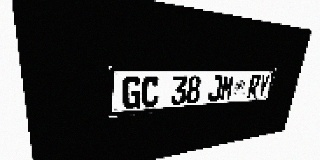3: (170, 76, 188, 105)
8: (185, 75, 202, 104)
C: (141, 76, 160, 108)
G: (122, 76, 142, 109)
J: (207, 75, 223, 102)
M: (220, 75, 235, 101)
R: (247, 75, 261, 98)
Y: (256, 75, 270, 98)
